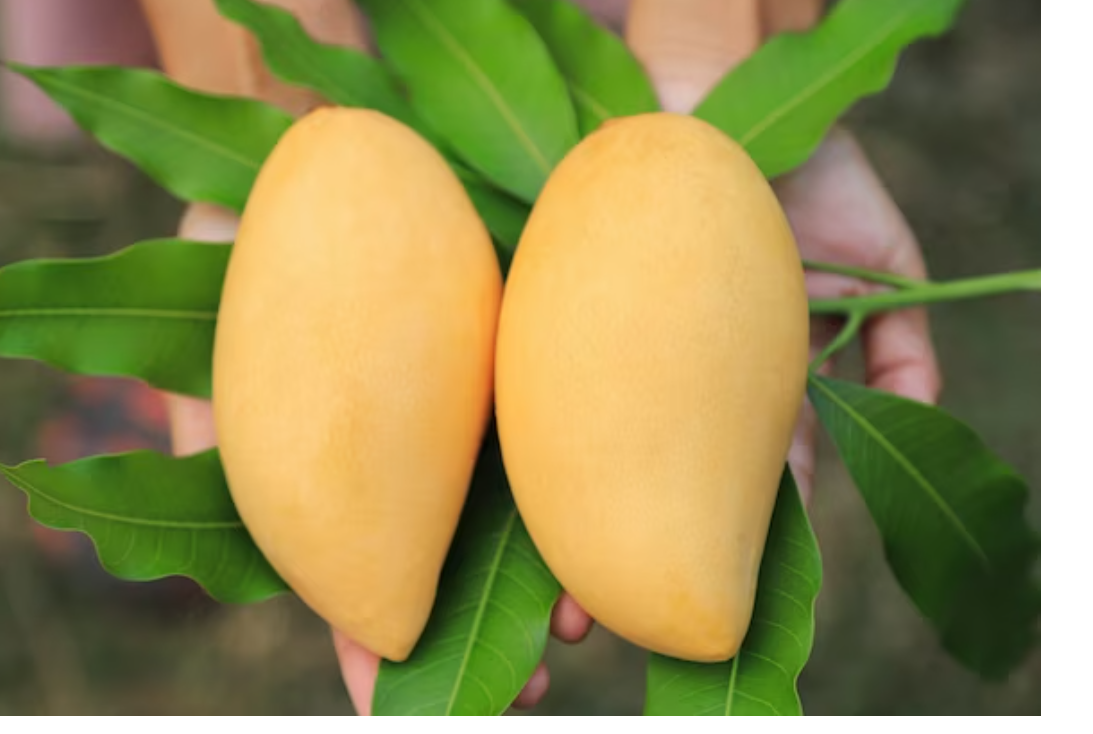mango: (485, 112, 814, 661), (214, 102, 501, 665)
